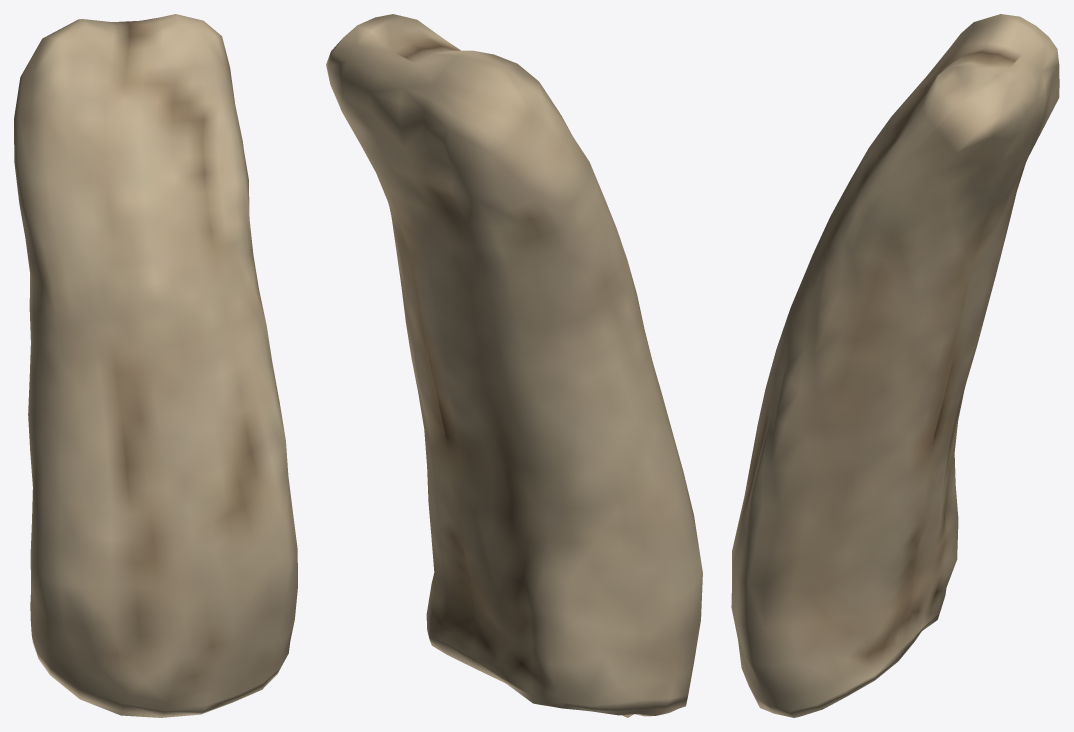
The model's file is Upper_Incisor2.glb.
3 views of the same model, side by side, from view 1: azimuth 30°, elevation 25°; view 2: azimuth 150°, elevation 25°; view 3: azimuth 270°, elevation 25° (orthographic). The views are drawn at different scales.
Parts seen in each view (by area): view 1: Group63236_Mesh.036; view 2: Group63236_Mesh.036; view 3: Group63236_Mesh.036.
Part boxes in pixels (x1,y1,x2,y2): Group63236_Mesh.036: (14,14,297,717); Group63236_Mesh.036: (326,14,702,717); Group63236_Mesh.036: (731,14,1059,717).
Size of the model in its own units: 0.0131 by 0.0319 by 0.0143.
Materials: 1 (1 with a texture image).
